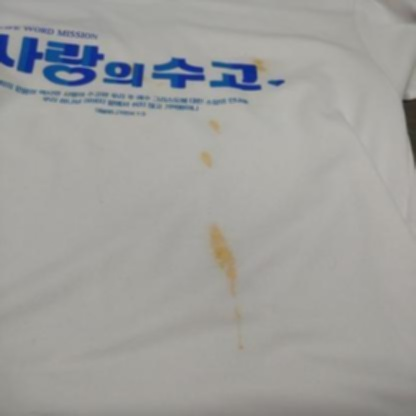kimchi: (207, 222, 244, 286), (236, 308, 245, 359), (210, 117, 224, 134), (254, 58, 269, 71), (233, 280, 242, 298), (197, 153, 209, 166), (155, 77, 163, 88), (144, 66, 152, 74), (144, 79, 148, 85)
